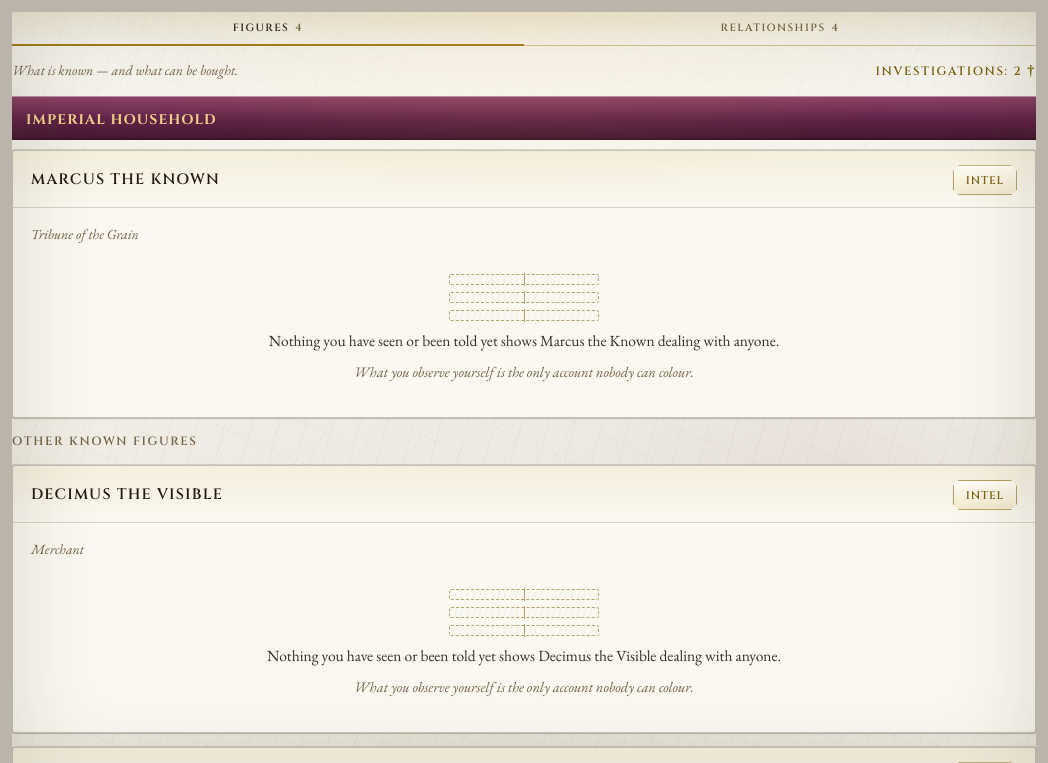
components/tabs/DramatisPersonaeTab - player-safe Personae › never renders live state, goals, schemes, secret truth, free Raw Thoughts, or player notes while retaining paid intel controls
Check: the element with class "gor-card" that starts with "Marcus the Known" is shown, box 12,150 -> 1036,418
What coordinates should you click on to do the following:
click the 1st button "Intel"
I would click on:
 (985, 180)
Its box is 953,165 -> 1017,195.
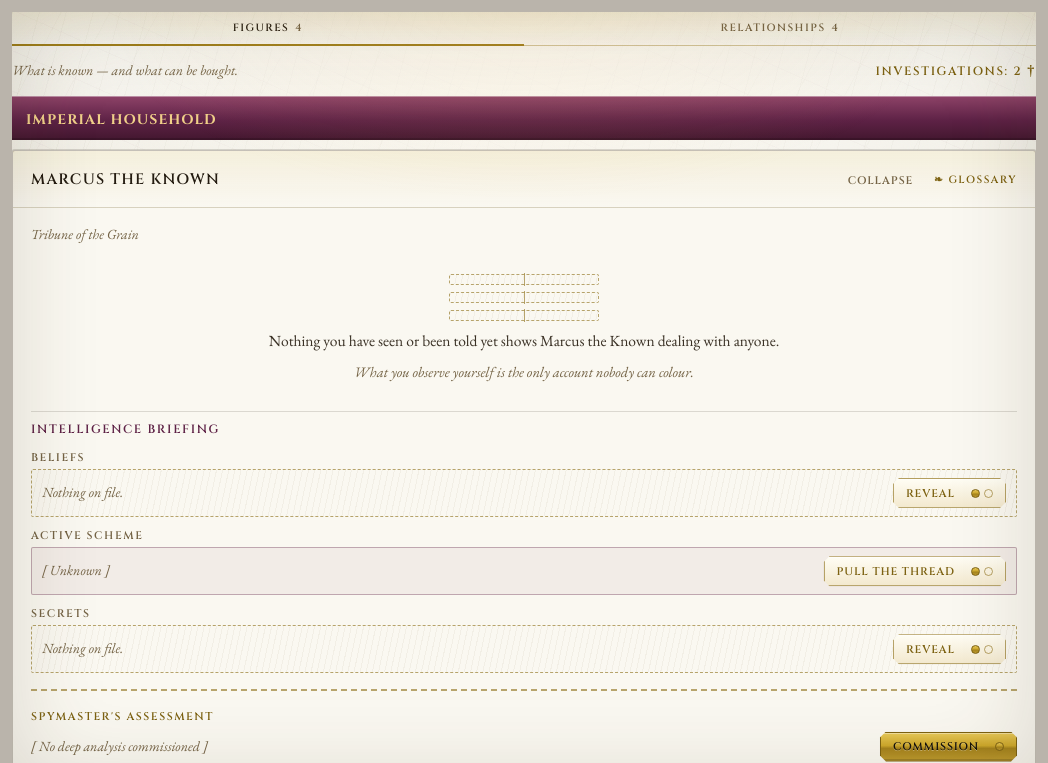
Check: the element with class "gor-card" shows "Beliefs", box 31,450 -> 85,465
Check: the element with class "gor-card" shows "Active Scheme", box 31,528 -> 144,543
Check: the element with class "gor-card" shows "Secrets", box 31,606 -> 90,621
